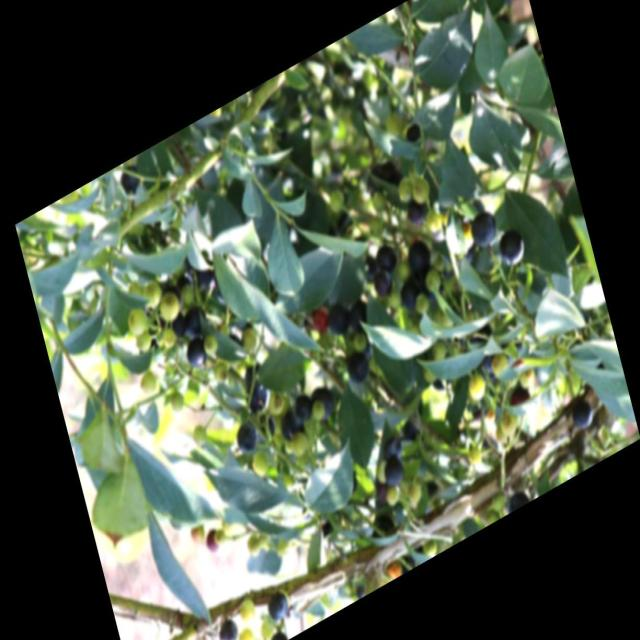blueberry: (464, 202, 502, 255), (180, 329, 212, 375), (496, 226, 528, 271), (114, 156, 147, 199), (379, 451, 412, 493), (343, 293, 373, 339), (262, 582, 294, 624), (341, 346, 372, 387), (569, 395, 600, 436), (242, 375, 272, 417), (402, 192, 431, 235), (182, 302, 212, 343), (307, 381, 337, 422), (324, 300, 352, 342), (418, 264, 447, 304), (278, 404, 305, 445), (233, 417, 261, 456), (190, 252, 218, 290), (406, 238, 432, 277), (159, 279, 186, 316), (400, 280, 425, 318), (162, 312, 188, 348), (379, 427, 406, 461), (374, 240, 398, 275), (368, 265, 393, 297), (213, 613, 243, 639), (290, 392, 312, 424), (362, 254, 378, 279)
blueberry-halfripe: (311, 304, 332, 336), (203, 526, 222, 554)
blueberry-unripe: (155, 288, 180, 326), (125, 302, 150, 339), (140, 276, 164, 312), (288, 428, 310, 461), (250, 447, 271, 481), (236, 594, 258, 626), (266, 385, 287, 418), (188, 518, 209, 546), (138, 368, 158, 397), (239, 324, 258, 354), (190, 421, 210, 448), (211, 358, 229, 386), (202, 330, 220, 358), (160, 325, 178, 352), (168, 388, 186, 414), (310, 398, 328, 421), (135, 330, 152, 354), (245, 534, 262, 558), (219, 514, 235, 539), (258, 617, 274, 639), (235, 624, 256, 640)
